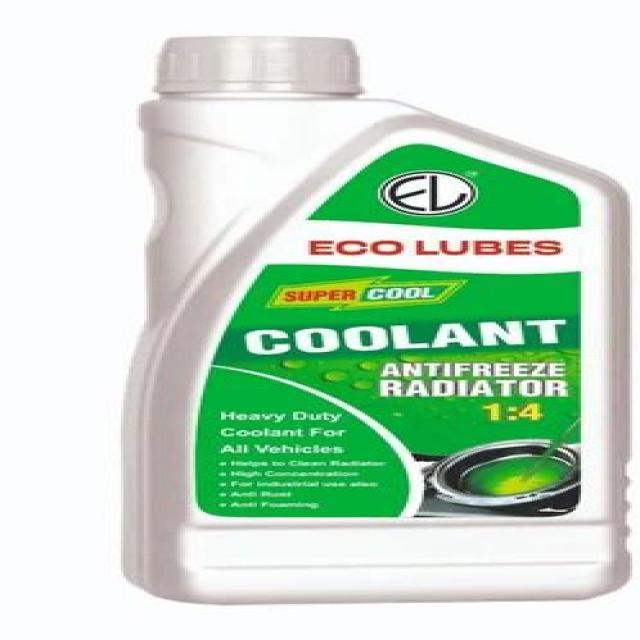coolant: (110, 24, 640, 610)
